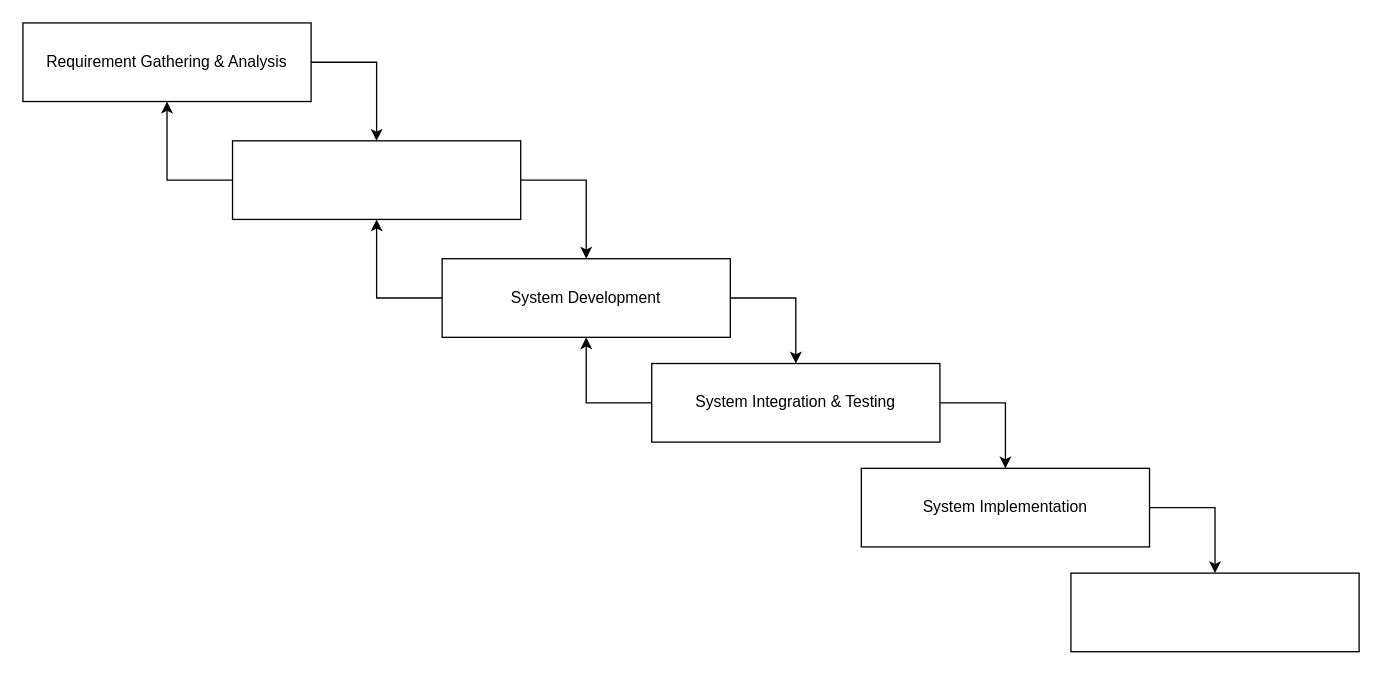
Some shapes in this 1382 by 675 pixel diagram are drawn without their labels. The shapes that lost their labels are listed below. From the top down, each one's box as (x1, y1, x2, y2) in pixels, then its label:
(231, 140, 521, 219): System Design
(1070, 572, 1359, 652): System Maintenance
